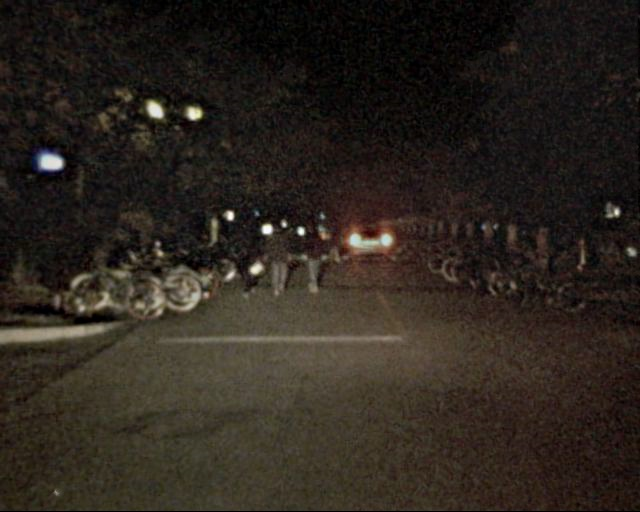person: (232, 216, 262, 299), (294, 221, 324, 295), (265, 221, 292, 299), (326, 222, 343, 263)
